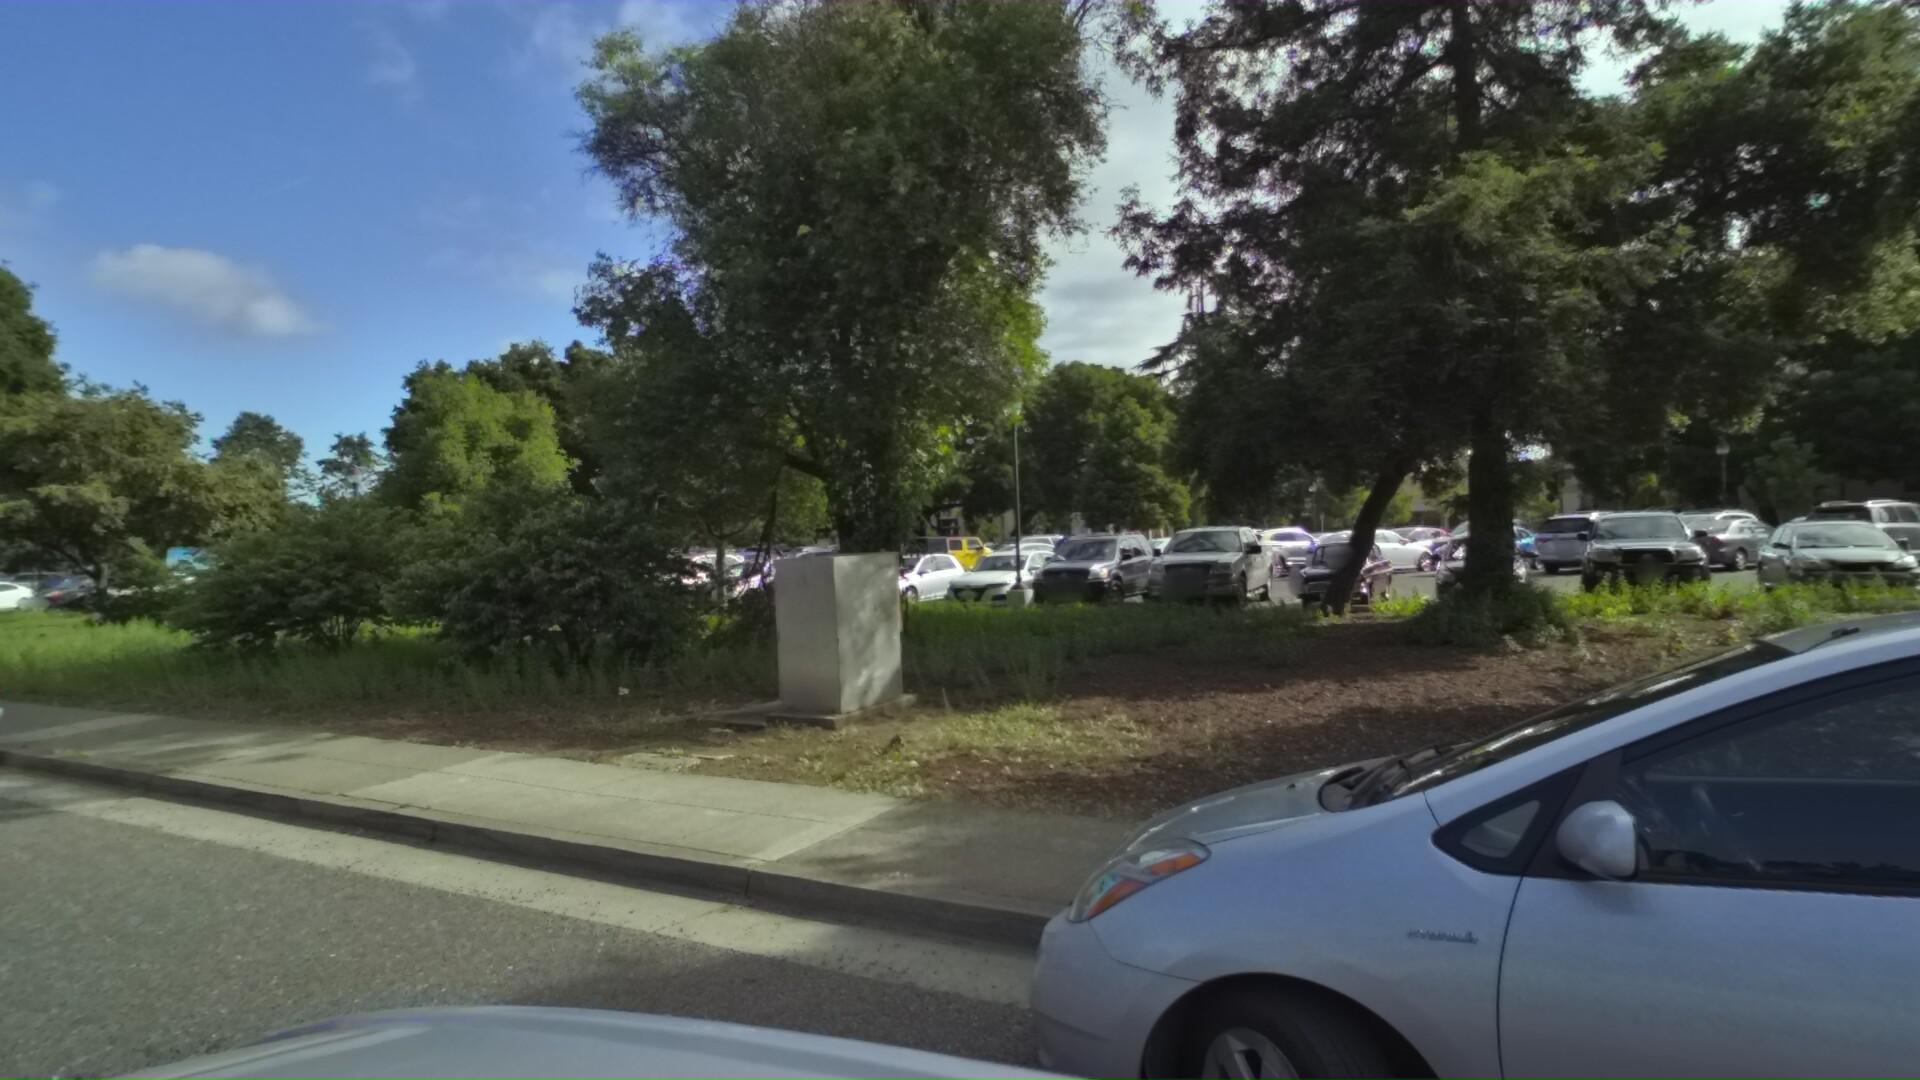car: (902, 545, 1920, 1080), (0, 588, 25, 825)
